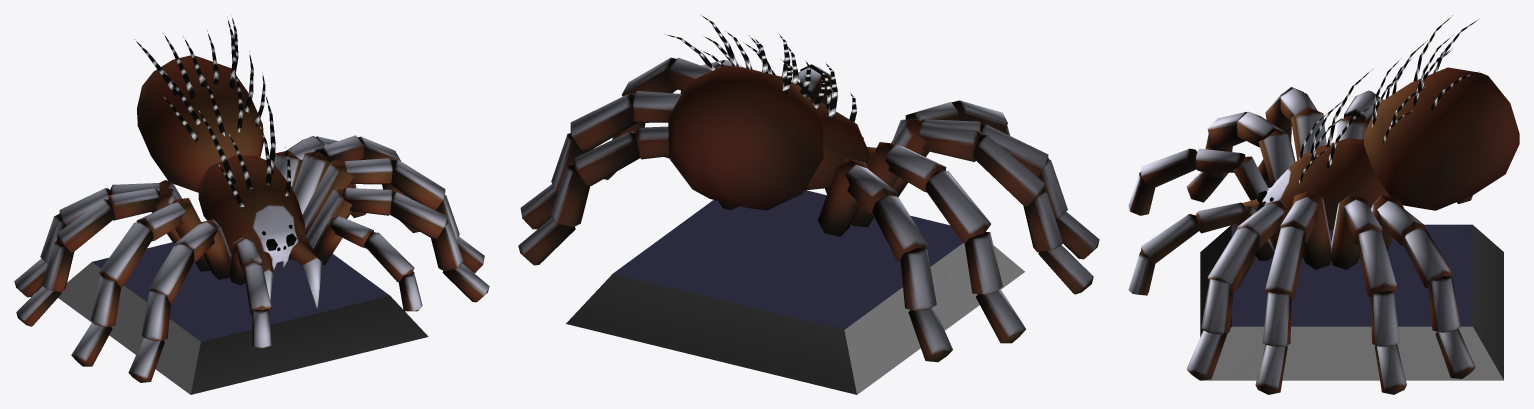
The model's file is SpiderMini.fbx.
3 renders of one model, left to right at view 1: azimuth 30°, elevation 25°; view 2: azimuth 150°, elevation 25°; view 3: azimuth 270°, elevation 25°, orthographic. The views are drawn at different scales.
Parts seen in each view (by area): view 1: SpiderMini; view 2: SpiderMini; view 3: SpiderMini.
Part boxes in pixels (x1=…): SpiderMini: x1=14, y1=16, x2=489, y2=394; SpiderMini: x1=518, y1=14, x2=1099, y2=394; SpiderMini: x1=1128, y1=15, x2=1519, y2=394.
Size of the model in its own units: 1.72 by 1.04 by 1.29.
